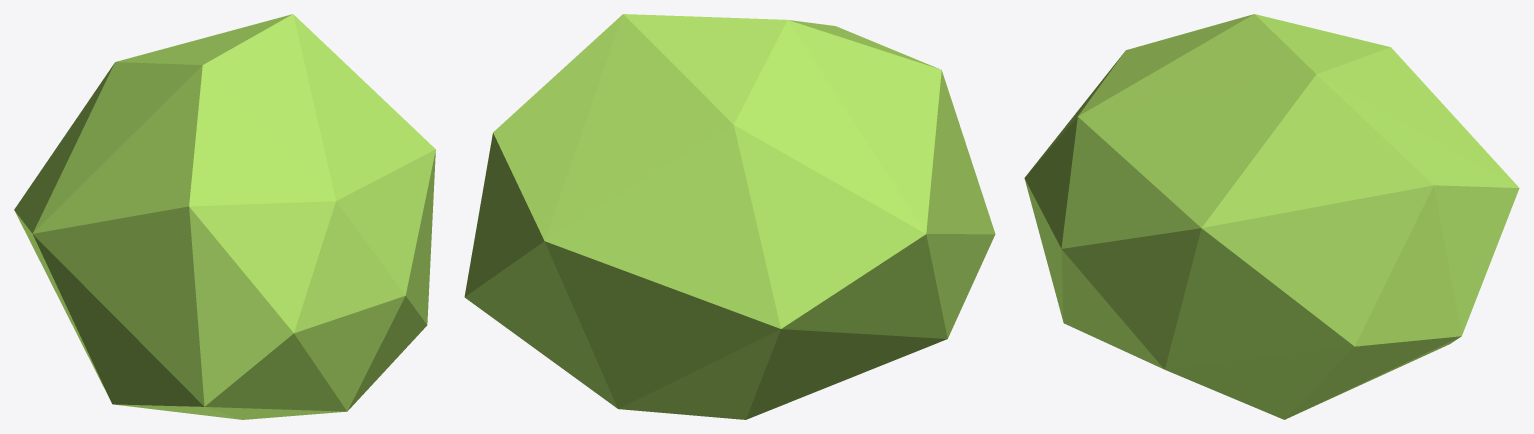
Rendered from Bush1.fbx.
The picture shows the model from 3 angles, left to right: view 1: azimuth 30°, elevation 25°; view 2: azimuth 150°, elevation 25°; view 3: azimuth 270°, elevation 25°; orthographic projection. The views are drawn at different scales.
Visible parts, largest first — view 1: Bush02.001; view 2: Bush02.001; view 3: Bush02.001.
Part boxes in pixels (left/top/right/bottom): Bush02.001: left=14, top=14, right=435, bottom=419; Bush02.001: left=464, top=14, right=995, bottom=419; Bush02.001: left=1024, top=14, right=1519, bottom=419.
Bounding box in the file's own units: 136 × 119 × 152.
